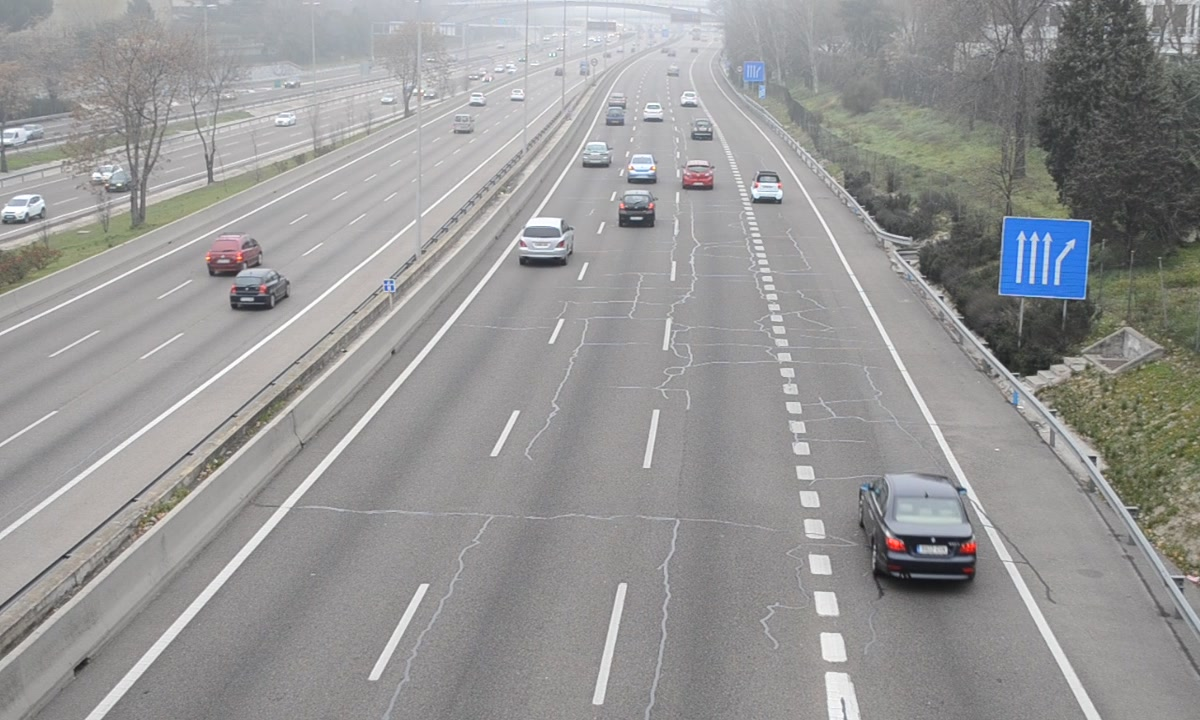car: (860, 472, 979, 583), (515, 215, 574, 262), (616, 189, 657, 229), (750, 169, 784, 206), (681, 159, 716, 192), (627, 152, 658, 184), (581, 141, 612, 168), (689, 118, 713, 142)
